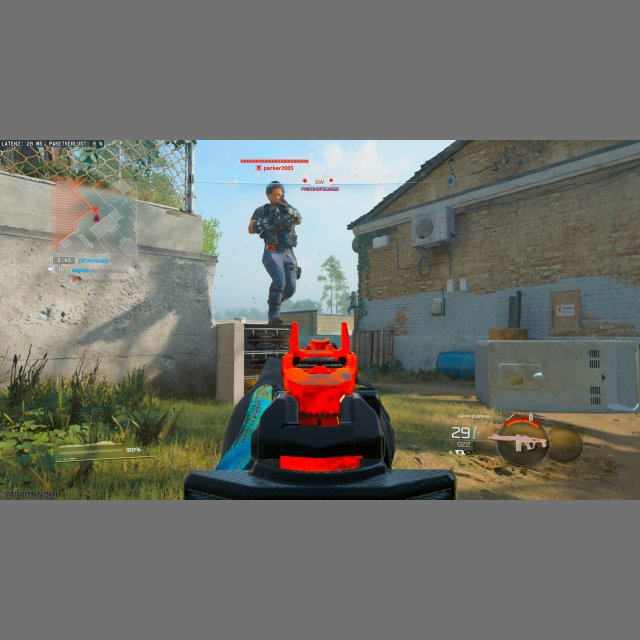head: (265, 180, 285, 204)
player: (248, 180, 303, 323)
